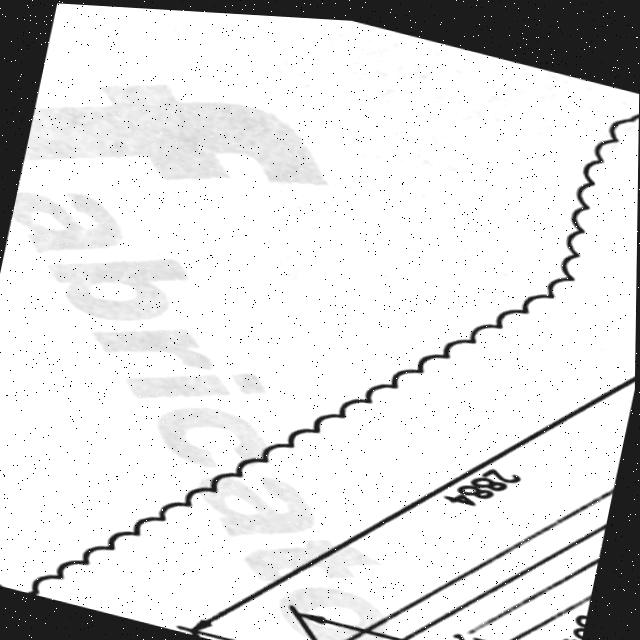Measrement: (195, 359, 636, 628)
